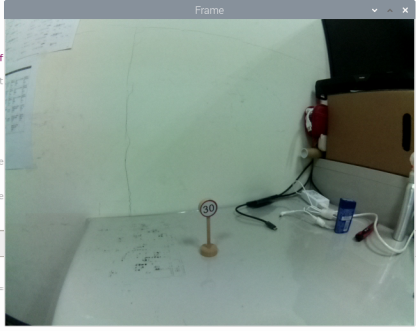Speed30: (197, 196, 219, 218)
